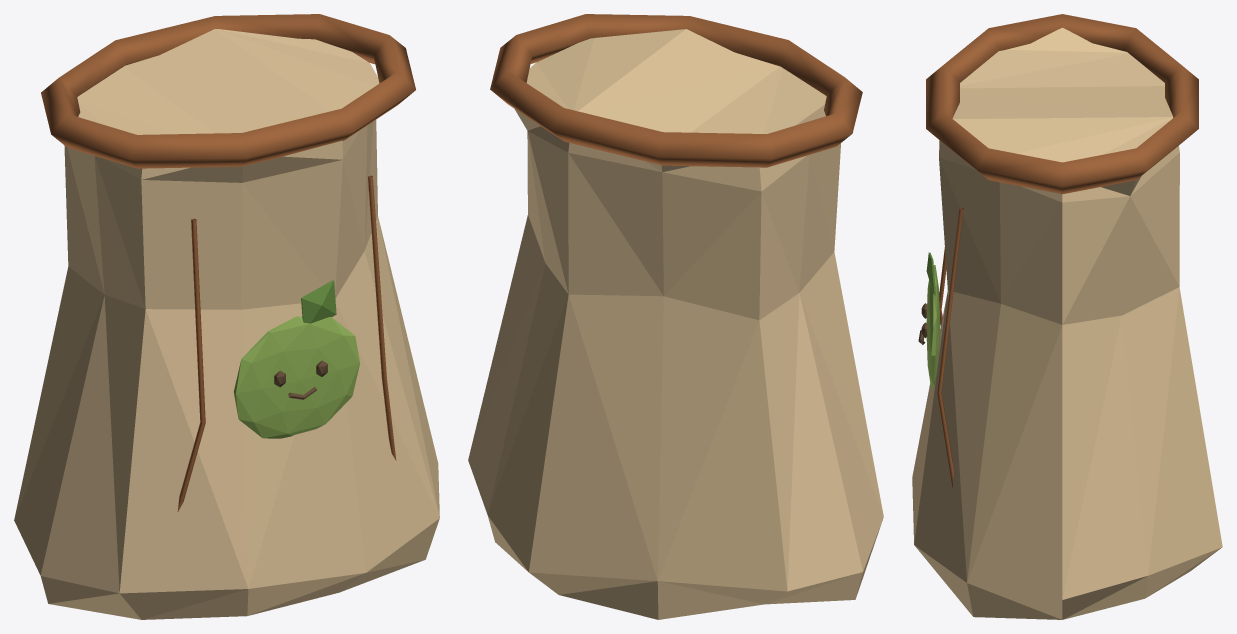
The model's file is ingredient_sack.fbx.
The picture shows the model from 3 angles, left to right: view 1: azimuth 30°, elevation 25°; view 2: azimuth 150°, elevation 25°; view 3: azimuth 270°, elevation 25°; orthographic projection. The views are drawn at different scales.
Parts seen in each view (by area): view 1: ingredient_sack; view 2: ingredient_sack; view 3: ingredient_sack.
Boxes of the visible parts, left/top/right/bottom form: ingredient_sack: left=14, top=14, right=439, bottom=619; ingredient_sack: left=468, top=14, right=883, bottom=619; ingredient_sack: left=912, top=14, right=1222, bottom=619.
Size of the model in its own units: 49.33 by 57.76 by 35.35.
